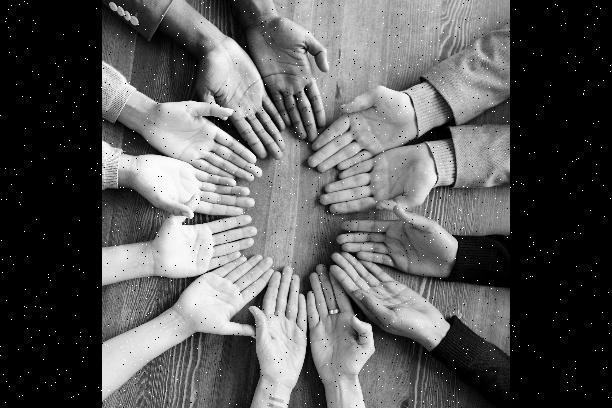Paper: (245, 19, 332, 141), (199, 36, 286, 156), (305, 84, 417, 174), (318, 138, 438, 219), (328, 249, 434, 338), (160, 96, 263, 181), (182, 253, 278, 341), (308, 262, 380, 378), (339, 206, 460, 274), (156, 211, 256, 280), (138, 152, 248, 212), (250, 270, 308, 383)
